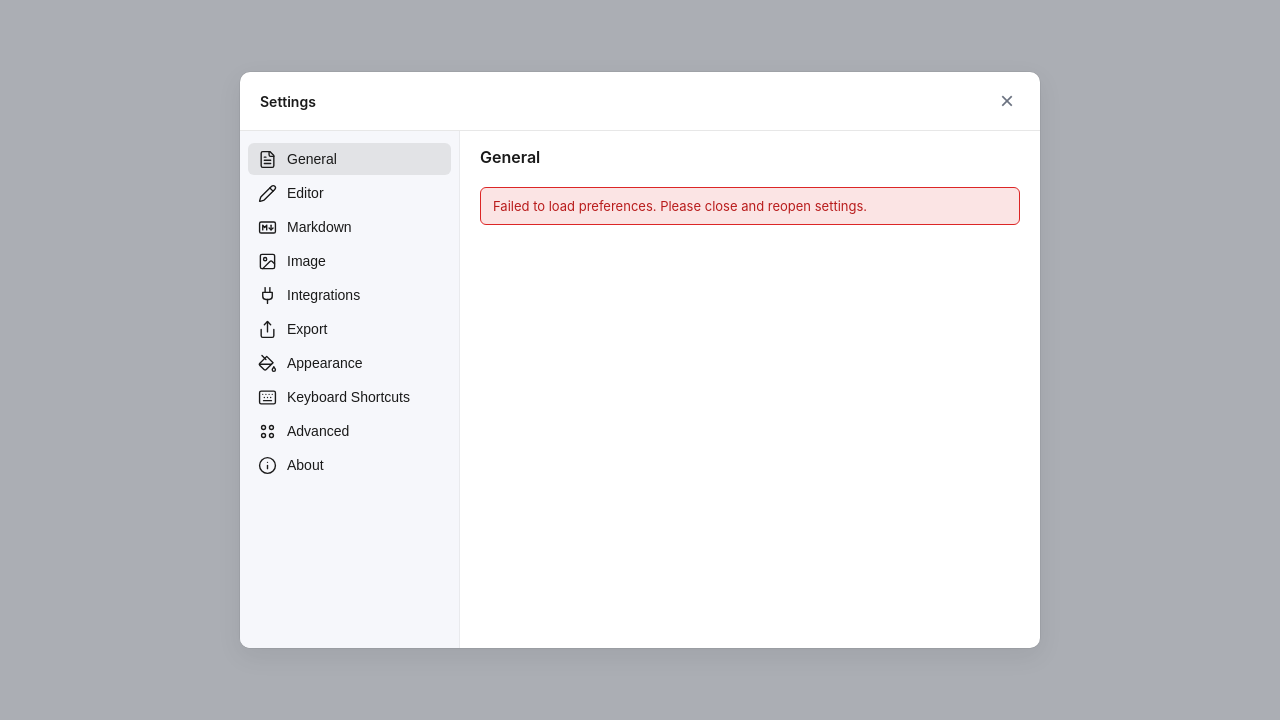
D25-1 corrupt config: the switch mirrors the server and one note is shown › failed + unreadable: switch checked=false
The image size is (1280, 720).
Click the button "Integrations" at (350, 295), box left=248, top=279, right=451, bottom=311
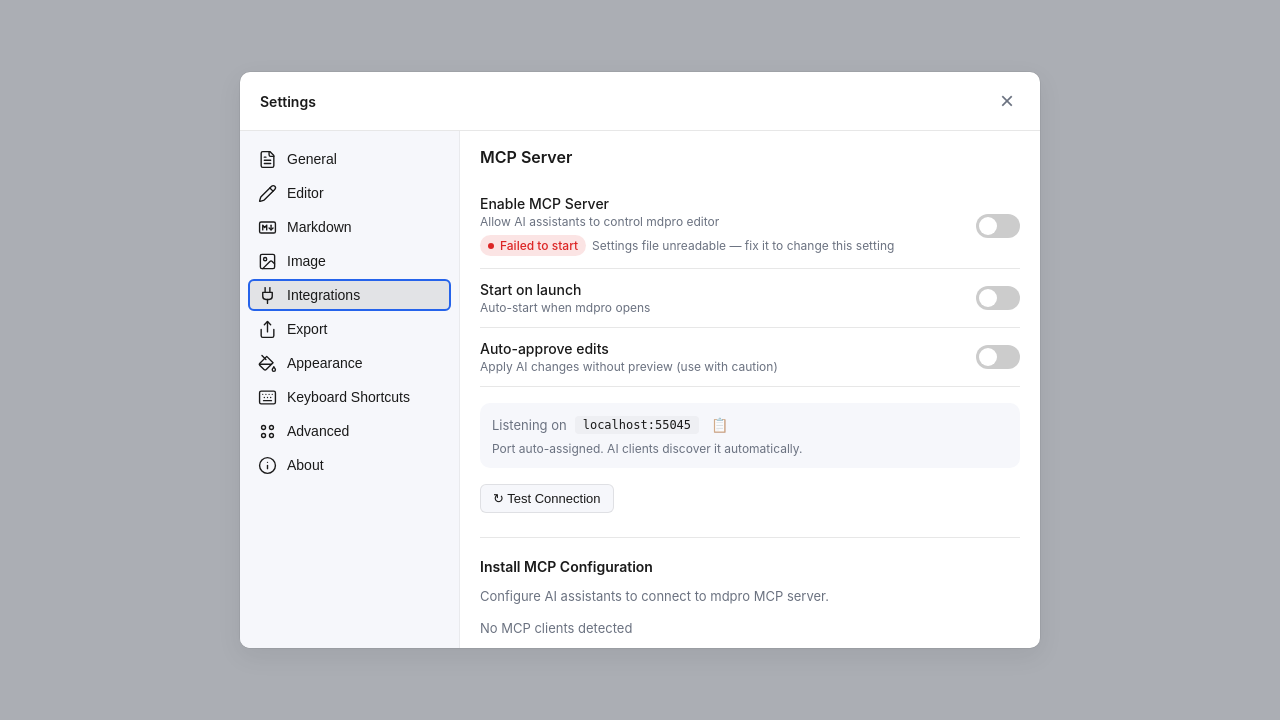
Expected: the message shows "Failed to start", left=500, top=238, right=578, bottom=253
Expected: the switch labelled "Enable MCP Server" is not checked, left=976, top=214, right=1020, bottom=238
Expected: the switch labelled "Enable MCP Server" is disabled, left=976, top=214, right=1020, bottom=238
